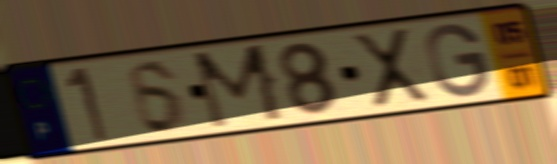1: (62, 64, 111, 145)
6: (124, 59, 191, 135)
8: (275, 39, 341, 118)
G: (422, 21, 492, 101)
M: (188, 40, 289, 134)
X: (348, 25, 435, 112)
